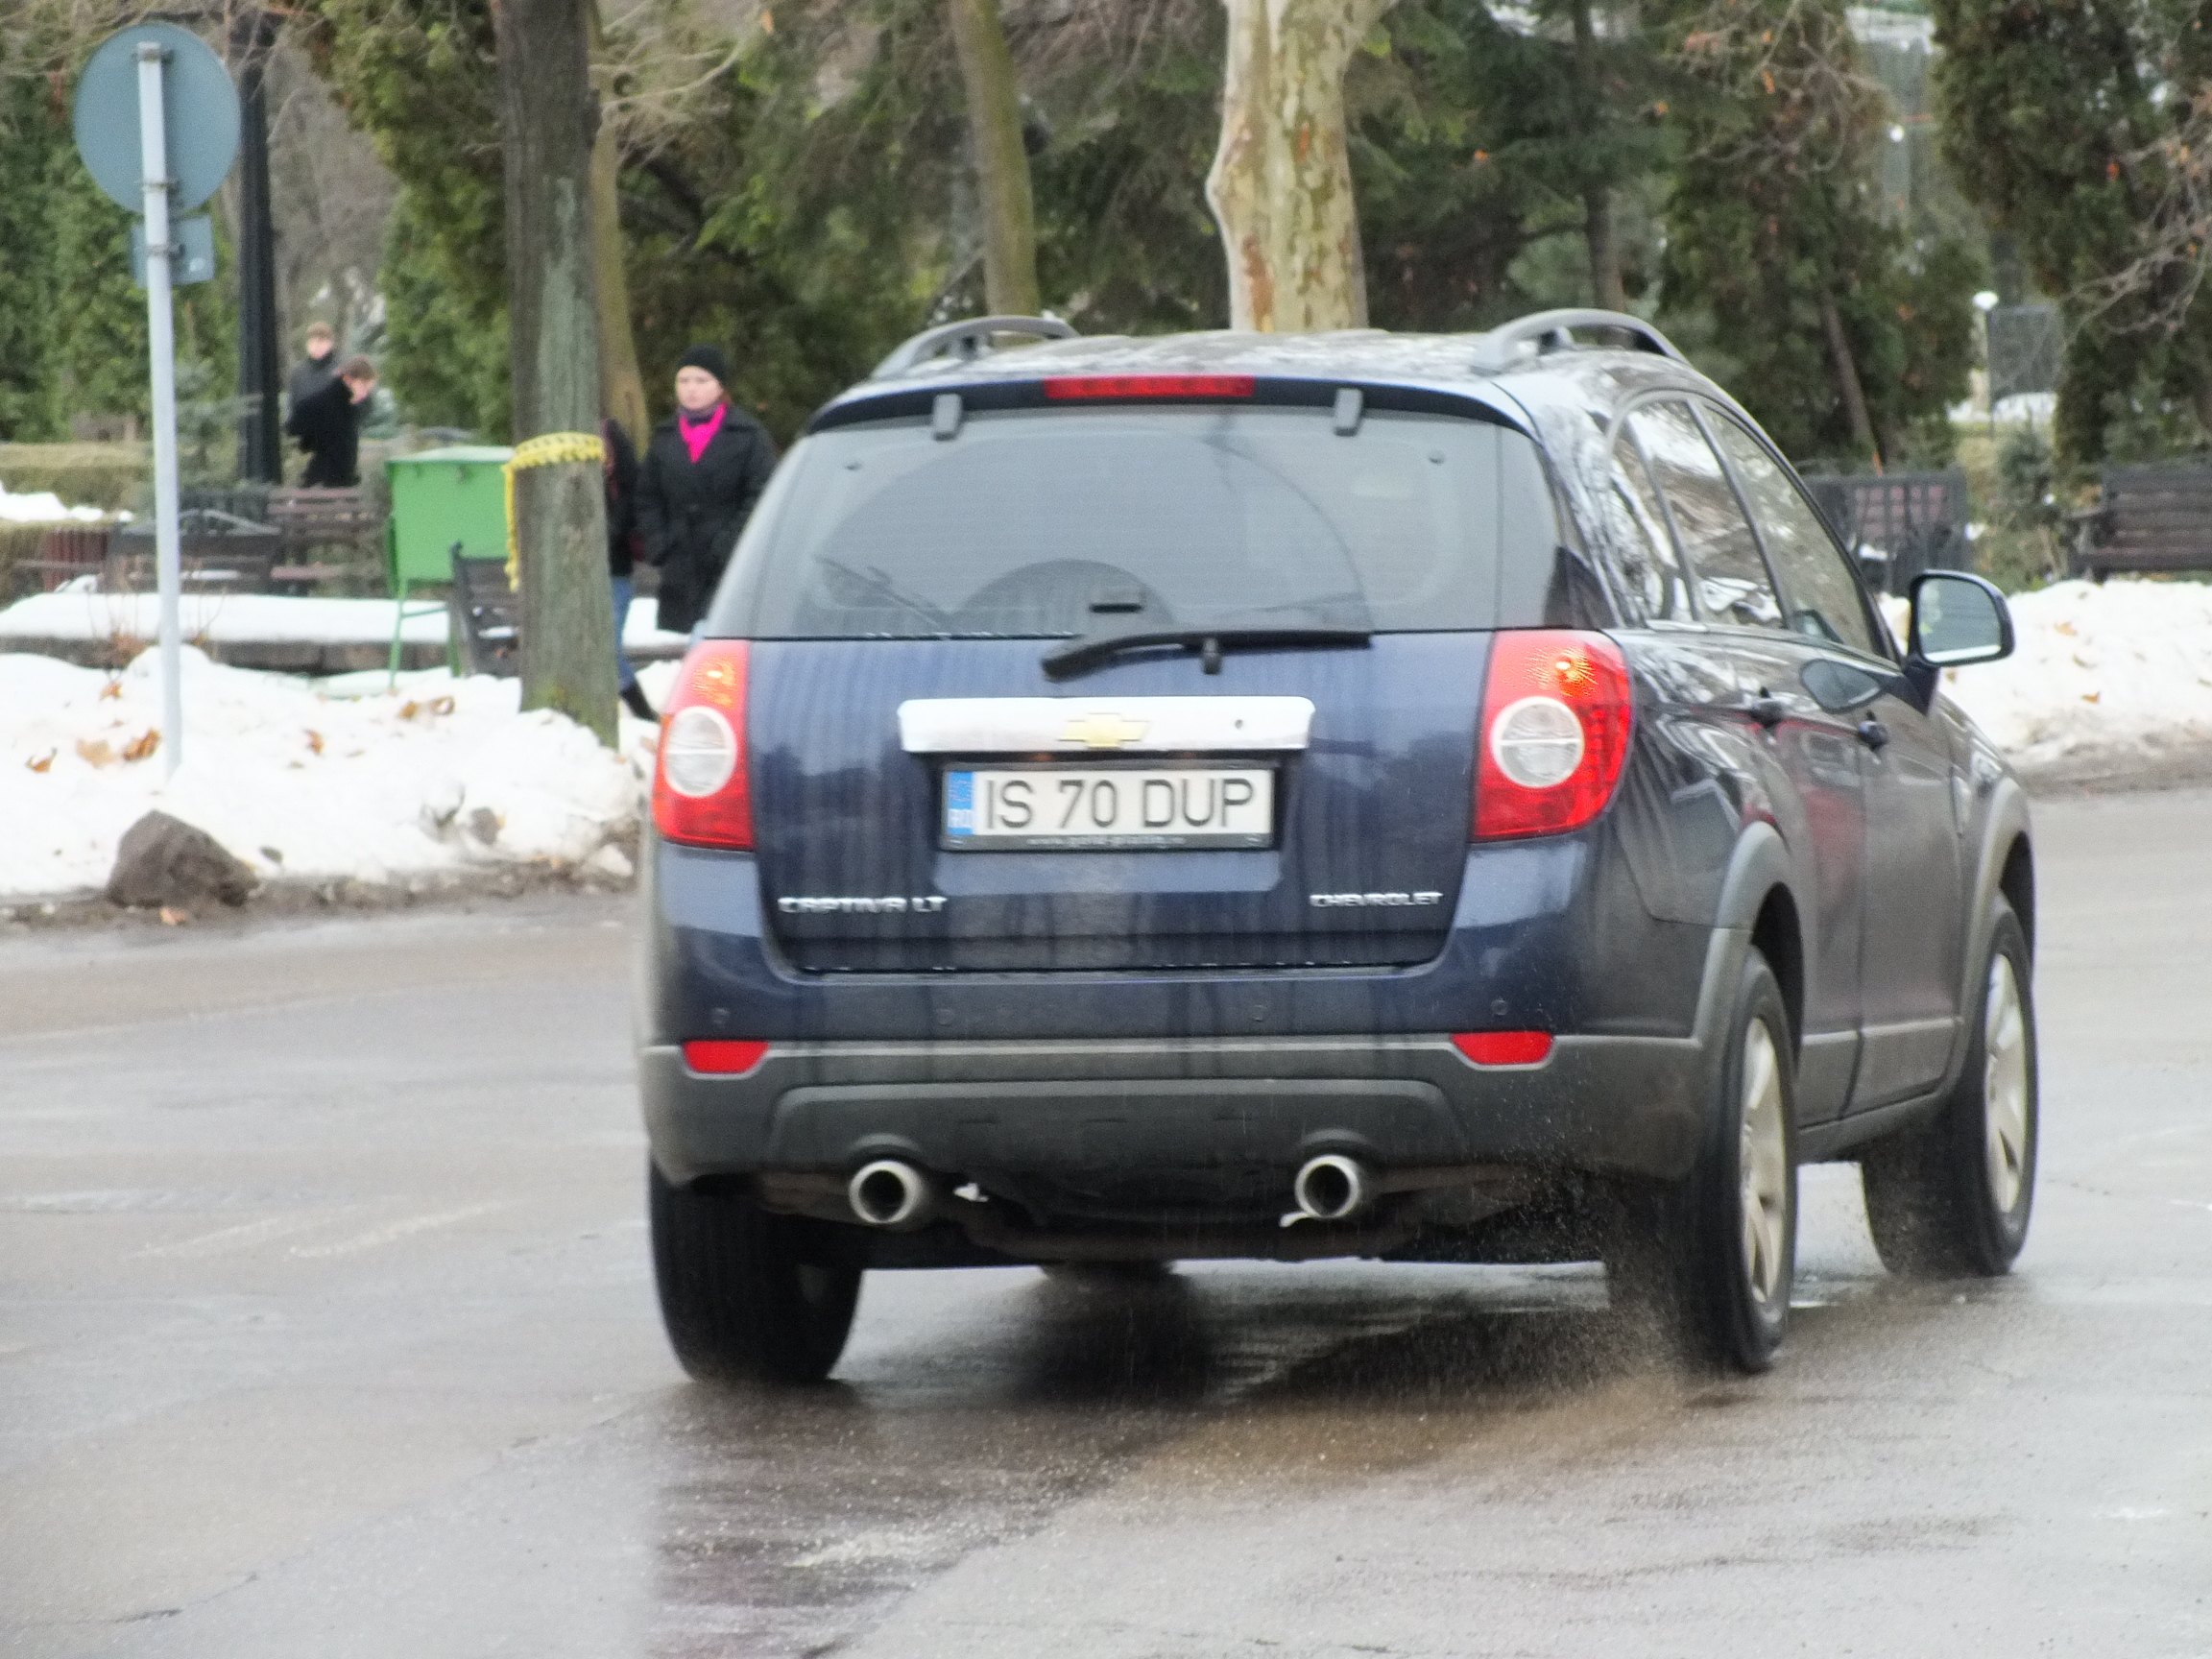IS70DUP: (943, 775, 1260, 845)
